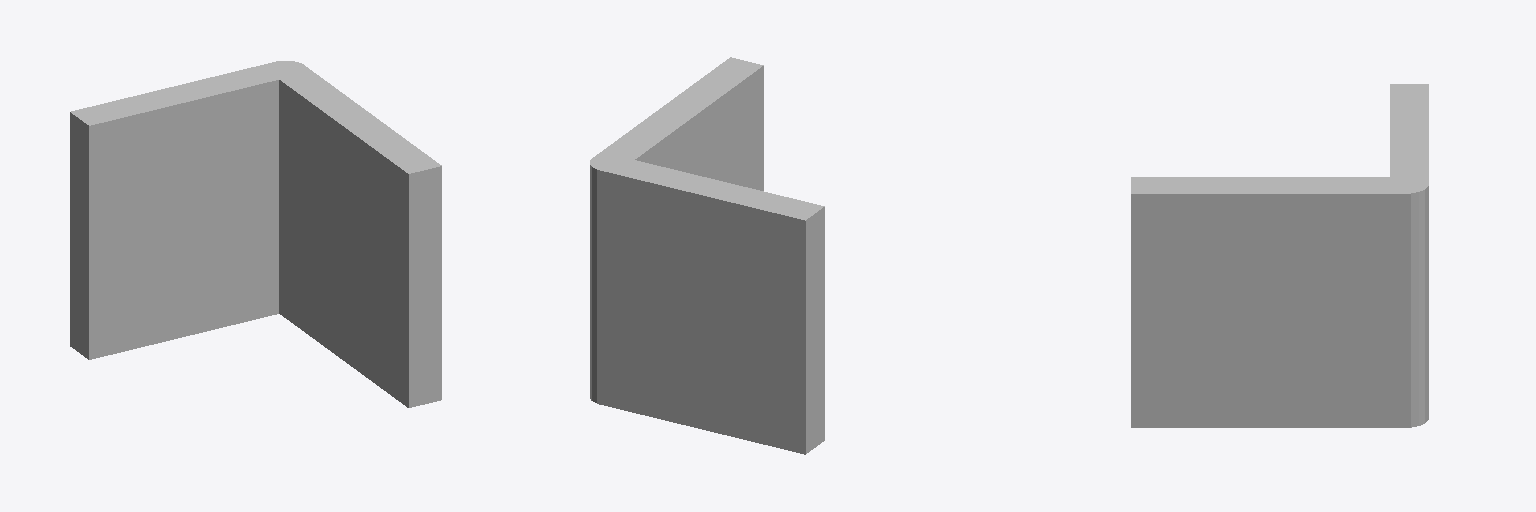
Rendered from anglewall_left(small).obj.
3 renders of one model, left to right at view 1: azimuth 30°, elevation 25°; view 2: azimuth 150°, elevation 25°; view 3: azimuth 270°, elevation 25°, orthographic.
Visible parts, largest first — view 1: anglewall_left(small); view 2: anglewall_left(small); view 3: anglewall_left(small).
Boxes of the visible parts, <box> form: anglewall_left(small): <box>70,61,441,407</box>; anglewall_left(small): <box>590,57,824,454</box>; anglewall_left(small): <box>1131,84,1428,427</box>.
Size of the model in its own units: 1 by 1 by 1.15.